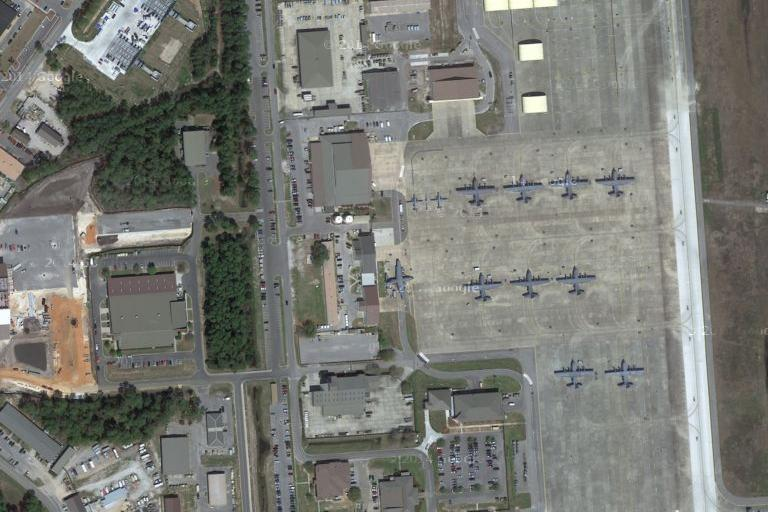C-130: (383, 254, 413, 303), (553, 265, 600, 295), (452, 174, 496, 206), (508, 268, 554, 298), (545, 168, 591, 197), (553, 357, 595, 388), (594, 166, 635, 197), (463, 272, 504, 303), (503, 172, 543, 201), (604, 359, 646, 386)
